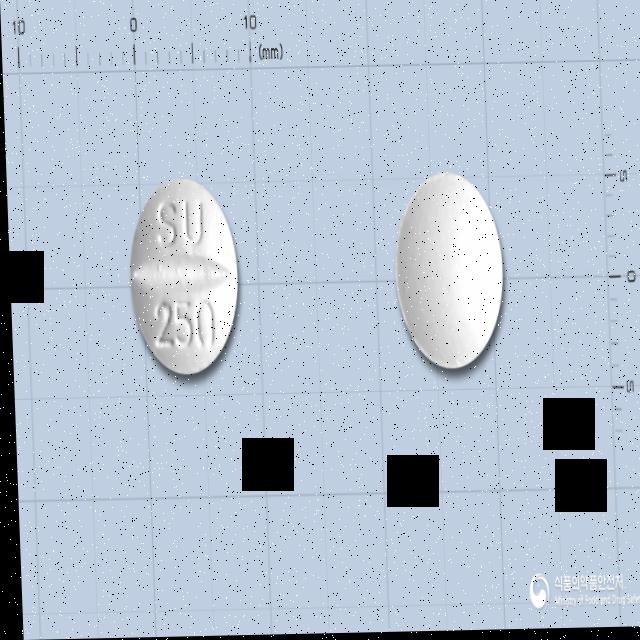Azafrine Tab: (125, 177, 240, 378), (392, 172, 504, 374)
